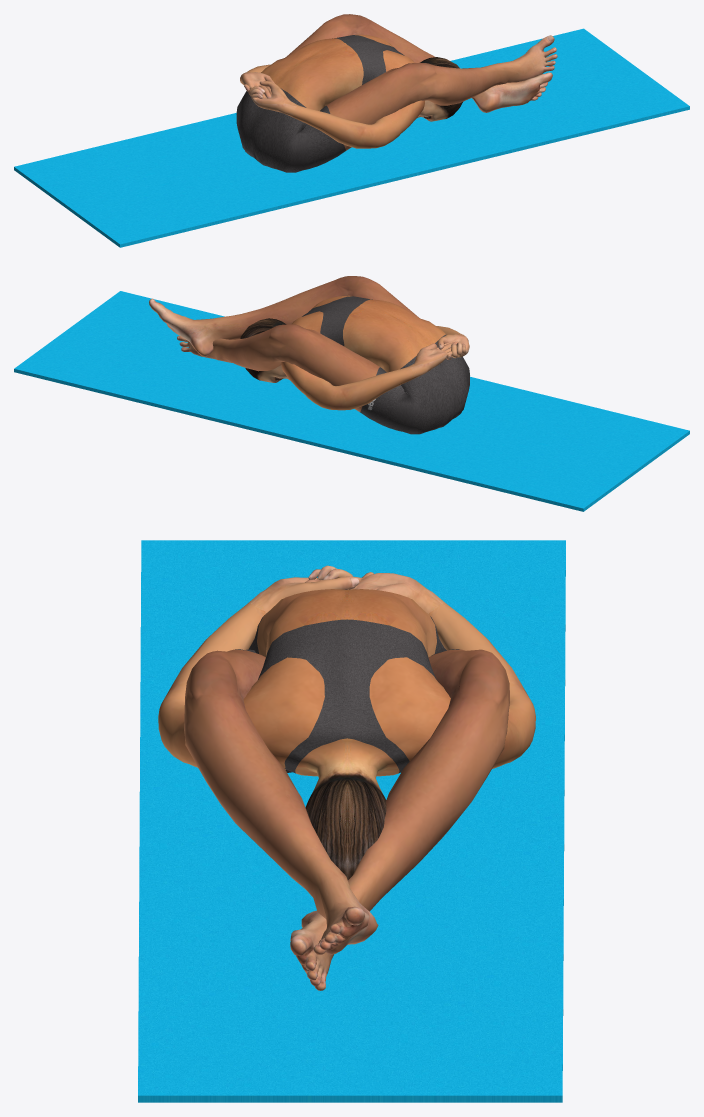
File: kurmasana.glb
3 renders of one model, top to bottom at view 1: azimuth 30°, elevation 25°; view 2: azimuth 150°, elevation 25°; view 3: azimuth 270°, elevation 25°, orthographic. The views are drawn at different scales.
Visible parts, largest first — view 1: mat_001-material, FemaleSkin-material; view 2: mat_001-material, FemaleSkin-material; view 3: mat_001-material, FemaleSkin-material.
Boxes of the visible parts, left/top/right/bottom form: mat_001-material: left=14, top=28, right=689, bottom=247; FemaleSkin-material: left=236, top=14, right=557, bottom=172; mat_001-material: left=14, top=291, right=689, bottom=511; FemaleSkin-material: left=149, top=276, right=469, bottom=434; mat_001-material: left=138, top=540, right=565, bottom=1102; FemaleSkin-material: left=158, top=565, right=535, bottom=990.
Bounding box in the file's own units: 6.17 × 1.03 × 2.01.
2 materials, 2 textured.
